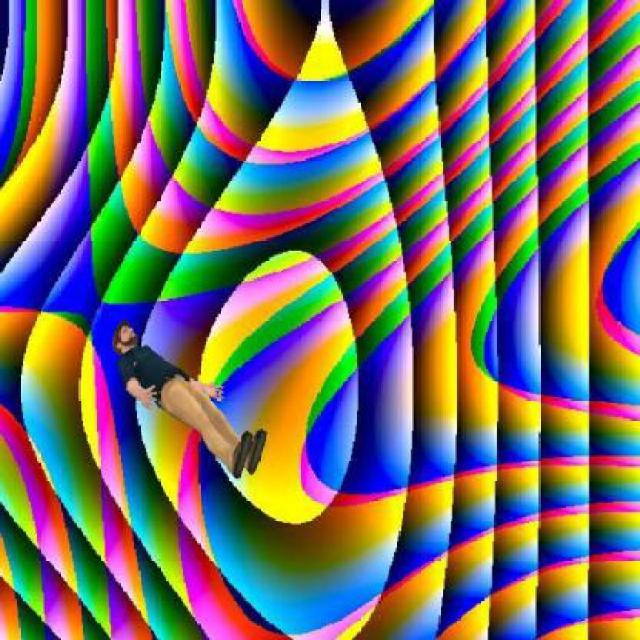Person: (109, 318, 269, 485)
